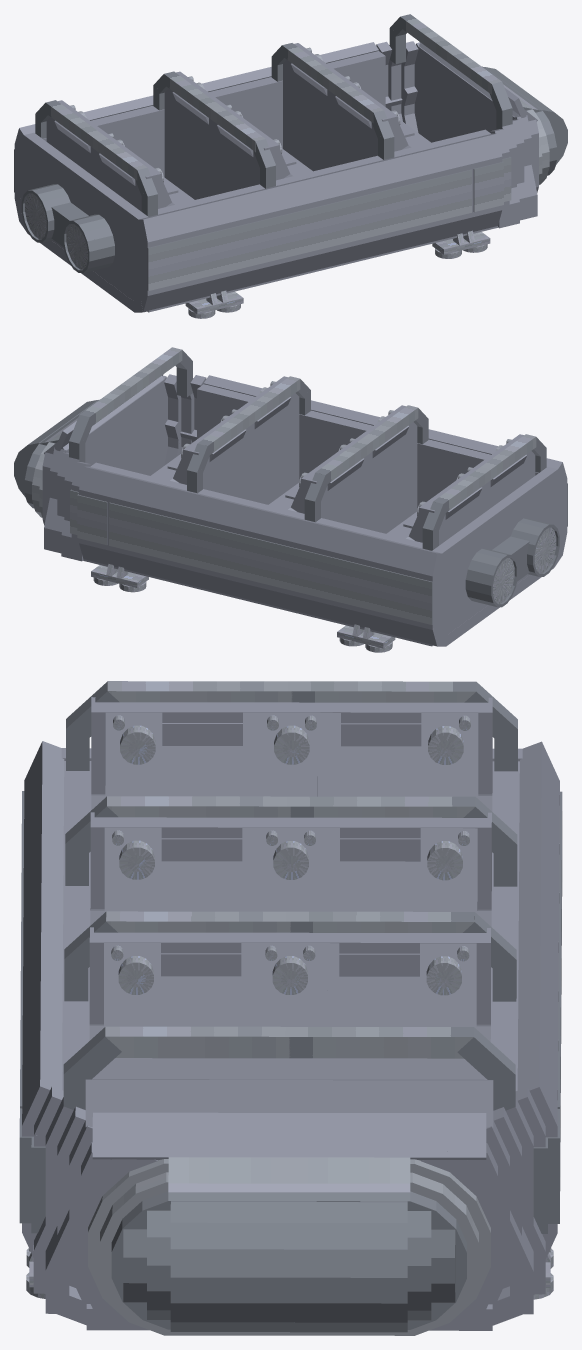
Rendered from seat.fbx.
3 views of the same model, one above another, from view 1: azimuth 30°, elevation 25°; view 2: azimuth 150°, elevation 25°; view 3: azimuth 270°, elevation 25° (orthographic). The views are drawn at different scales.
Parts seen in each view (by area): view 1: Object_2.001, Object_8, Object_3.001, Object_7, Object_4.001, Object_6.001, Object_5.001; view 2: Object_2.001, Object_8, Object_3.001, Object_7, Object_4.001, Object_6.001, Object_5.001; view 3: Object_2.001, Object_8, Object_3.001, Object_5.001.
Part boxes in pixels (<box>): Object_2.001: <box>14,41,551,312</box>; Object_8: <box>21,14,567,272</box>; Object_3.001: <box>14,99,549,290</box>; Object_7: <box>185,230,490,314</box>; Object_4.001: <box>25,193,87,269</box>; Object_6.001: <box>188,244,487,318</box>; Object_5.001: <box>70,47,400,182</box>; Object_2.001: <box>30,374,567,646</box>; Object_8: <box>14,347,559,607</box>; Object_3.001: <box>32,432,567,624</box>; Object_7: <box>91,564,395,648</box>; Object_4.001: <box>493,527,556,603</box>; Object_6.001: <box>93,577,392,652</box>; Object_5.001: <box>181,381,511,516</box>; Object_2.001: <box>22,697,559,1330</box>; Object_8: <box>63,681,517,1332</box>; Object_3.001: <box>19,791,562,1335</box>; Object_5.001: <box>111,715,470,995</box>.
Size of the model in its own units: 4703 by 1358 by 2290.
7 materials, 7 textured.
